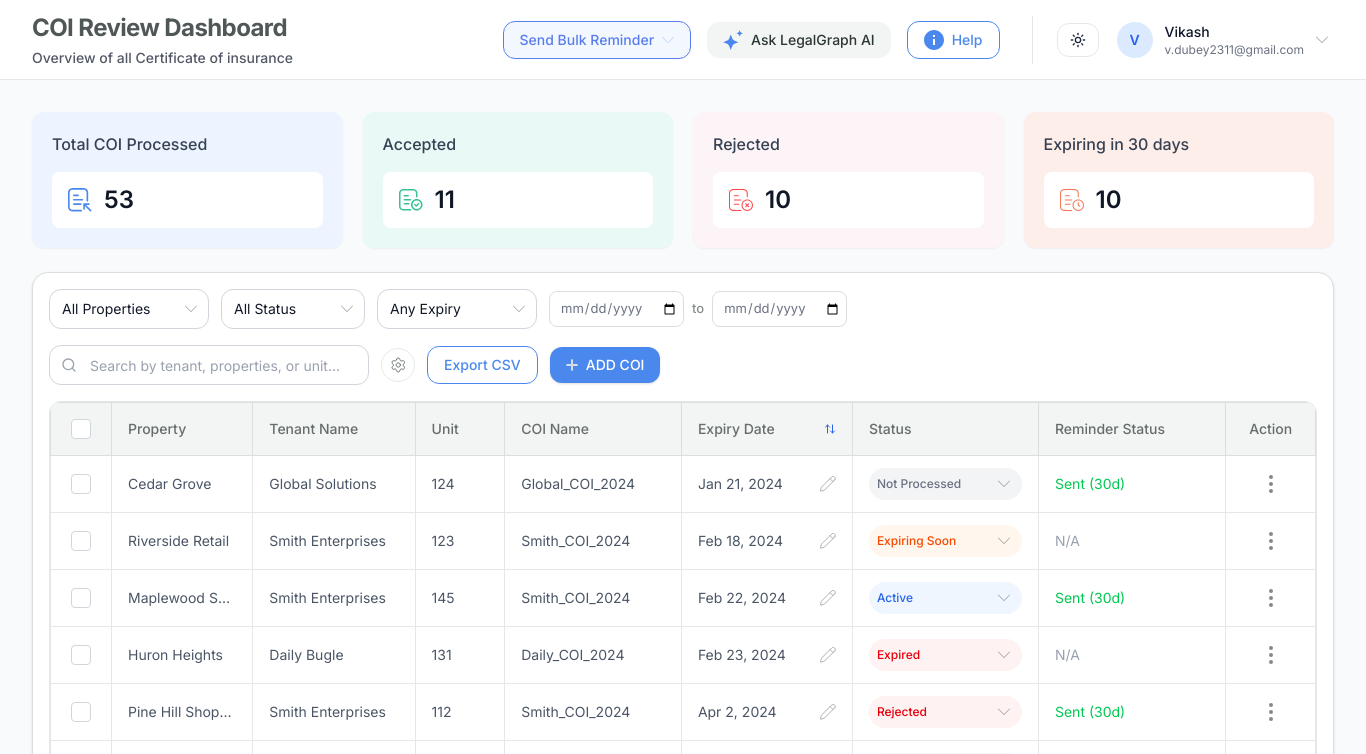
Test: Dashboard Page › deletes an existing record
This screenshot has width=1366, height=754.
Click the 4th button with alt text "Options" at {"x": 1271, "y": 484}, box [1265,470,1277,496]
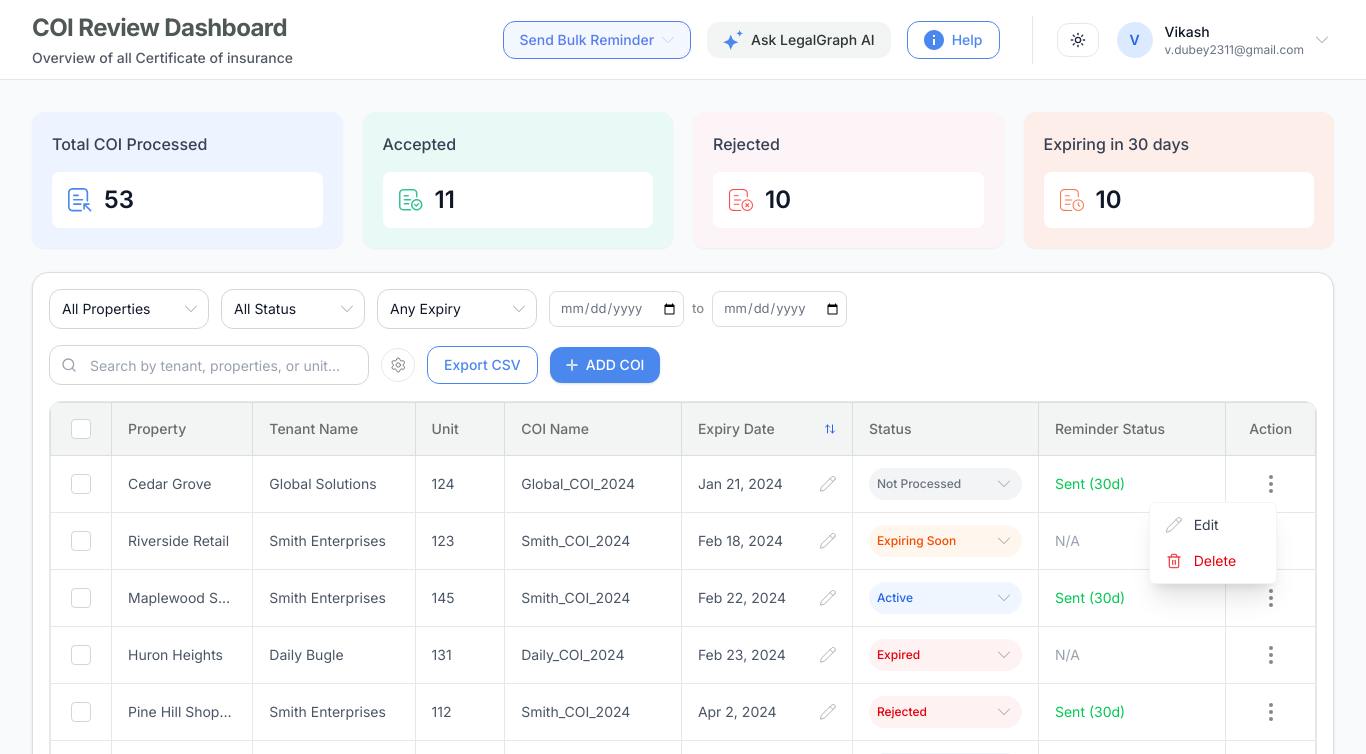
Click the menu item "Delete" at {"x": 1213, "y": 560}, box [1150,542,1276,578]
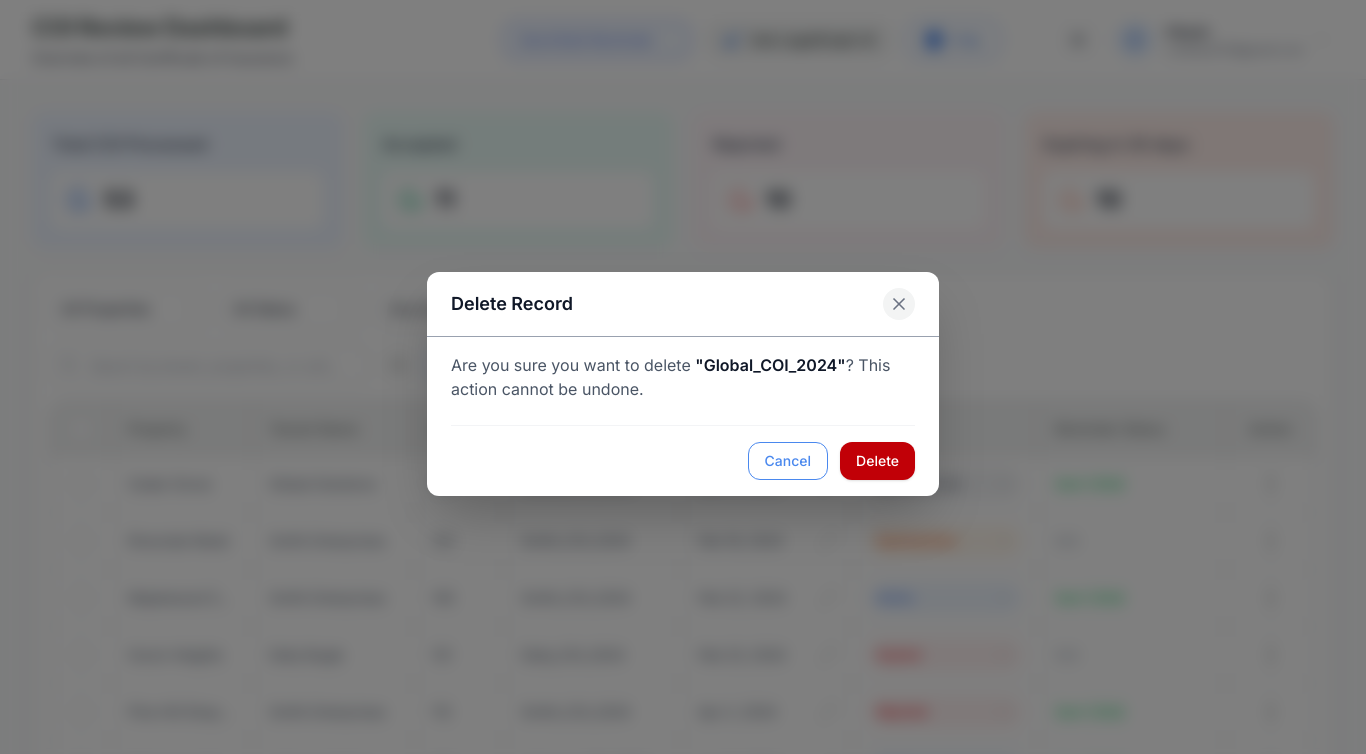
Now the heading "Delete Record" is shown, box [451,290,573,318]
Click the button "Delete" at {"x": 878, "y": 461}, box [840,442,915,480]
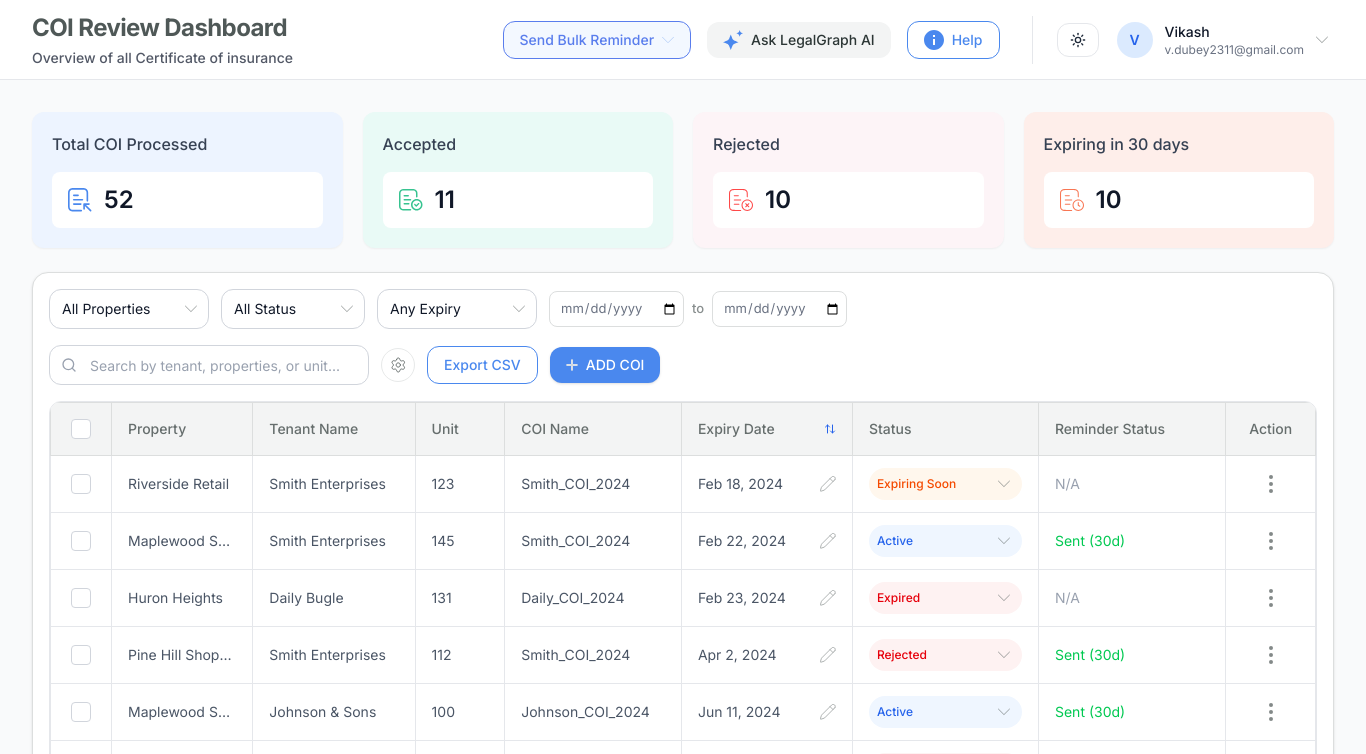
Now the heading "Delete" is gone
